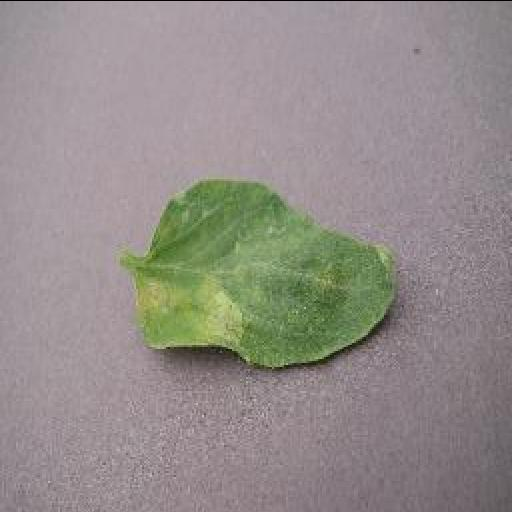disease_tomato: (128, 174, 402, 368)
